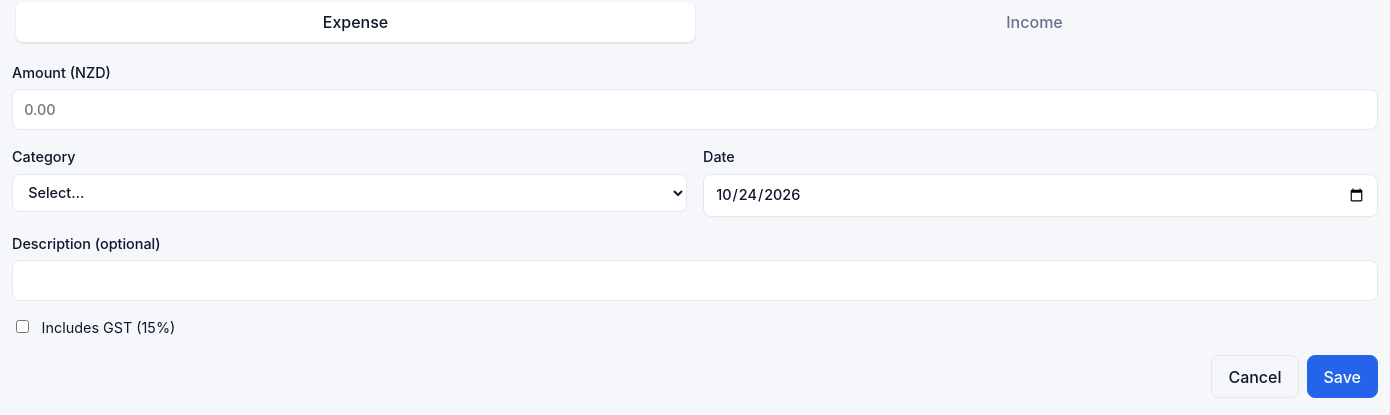
Scenario: TransactionForm › previews the GST component for the region
Step 1. Type "115" into the field labelled "Amount (NZD)" → (695, 110), box [12,89,1378,130]
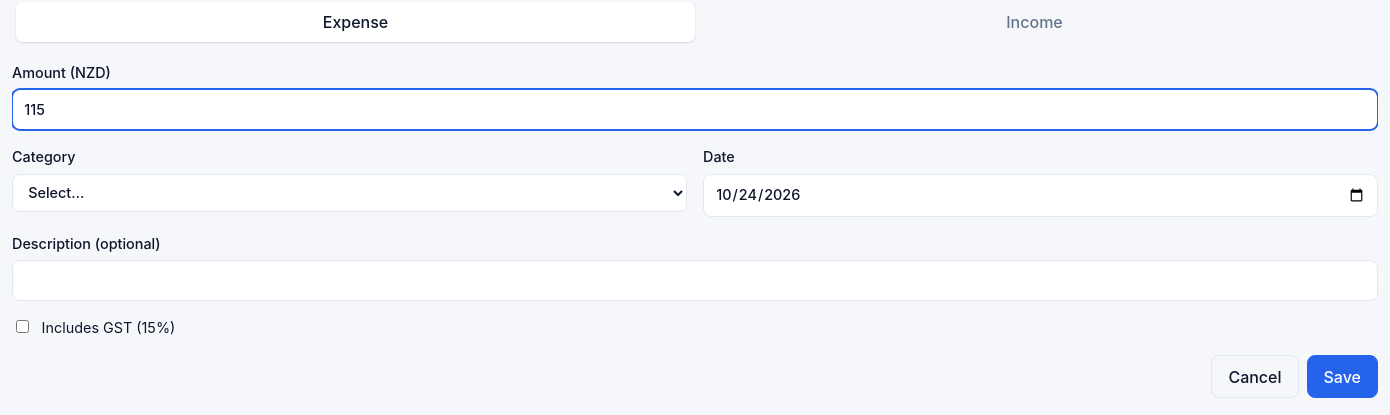
Step 2. Click the checkbox labelled "Includes GST (15%)" → (22, 327), box [16,320,29,333]
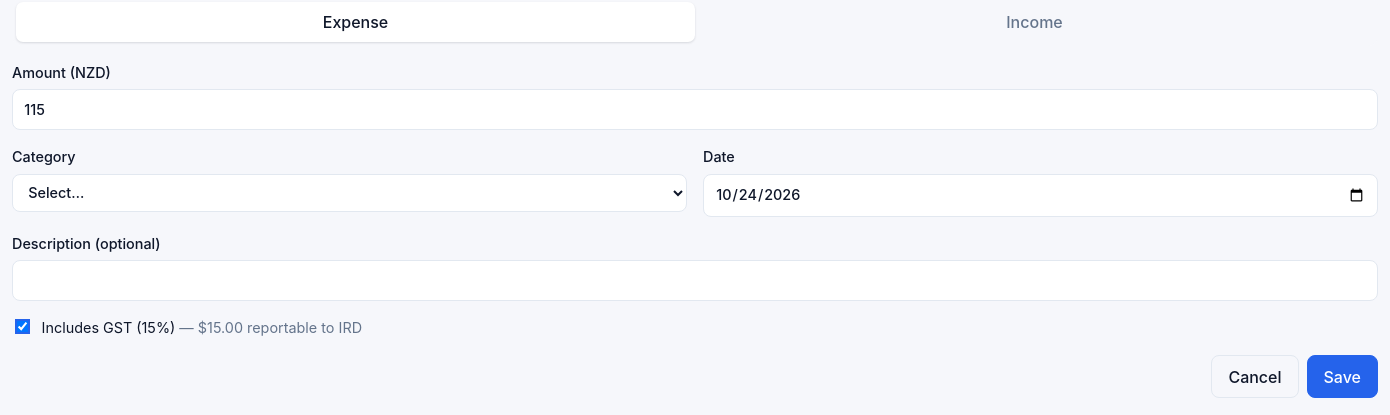
Expected: the text "— $15.00 reportable to IRD" is shown, [175,319,362,336]
